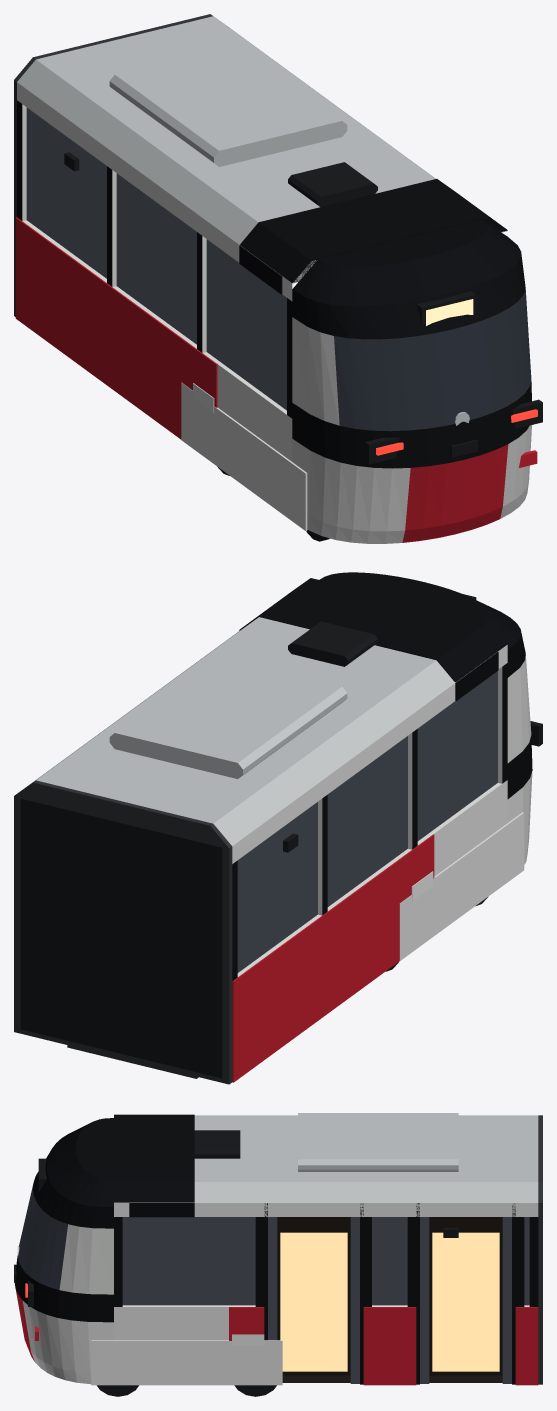
The model's file is 52t-e-open.glb.
3 views of the same model, one above another, from view 1: azimuth 30°, elevation 25°; view 2: azimuth 150°, elevation 25°; view 3: azimuth 270°, elevation 25° (orthographic). The views are drawn at different scales.
Parts seen in each view (by area): view 1: 52t-e-open; view 2: 52t-e-open; view 3: 52t-e-open.
Boxes of the visible parts, x1=… form: 52t-e-open: x1=14, y1=14, x2=542, y2=543; 52t-e-open: x1=14, y1=572, x2=542, y2=1084; 52t-e-open: x1=14, y1=1113, x2=542, y2=1396.
Size of the model in its own units: 2.6 by 3.3 by 6.91.
